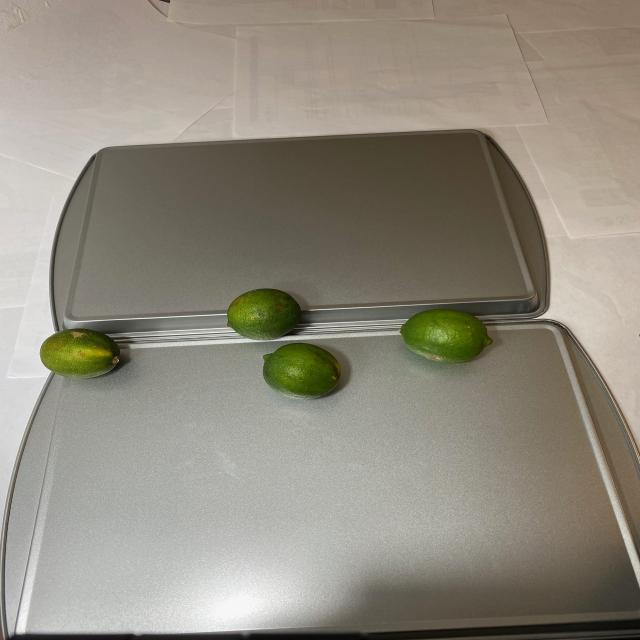lemon: (33, 288, 490, 397)
